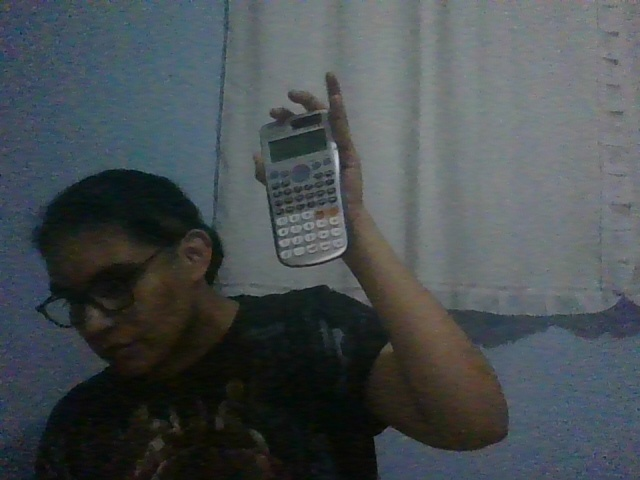calculadora: (258, 112, 350, 268)
